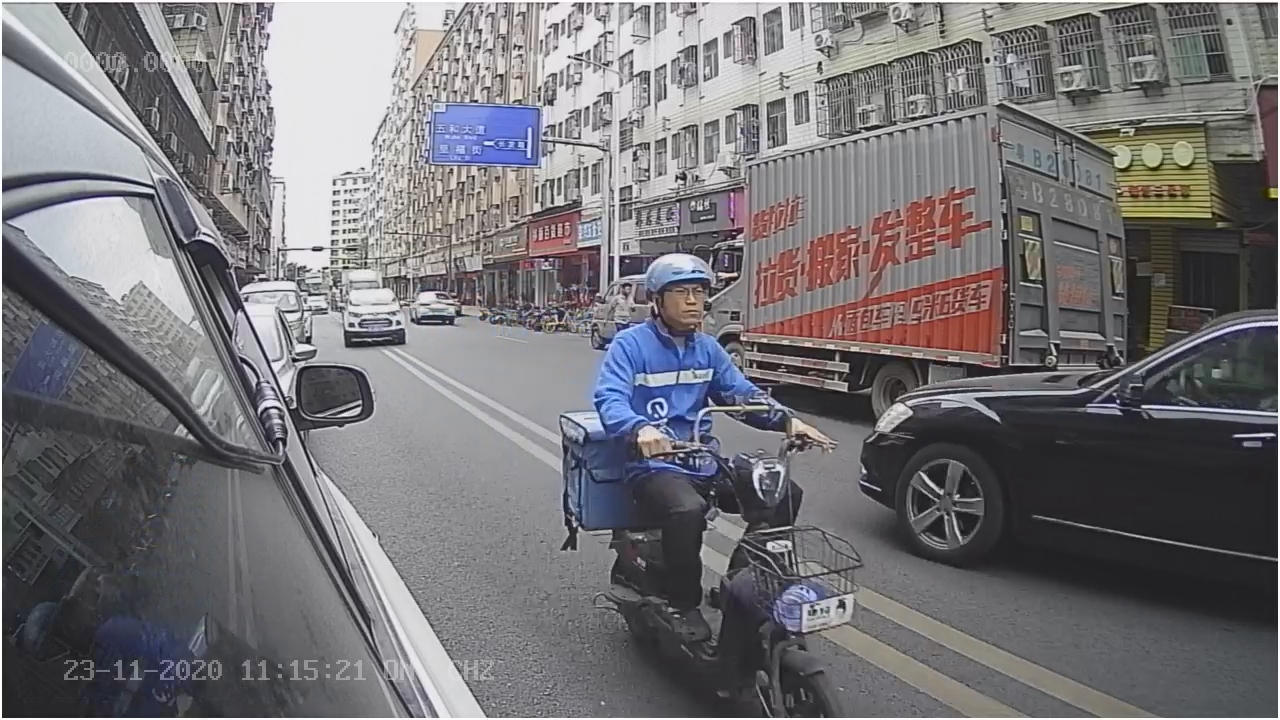person: (584, 246, 796, 396)
